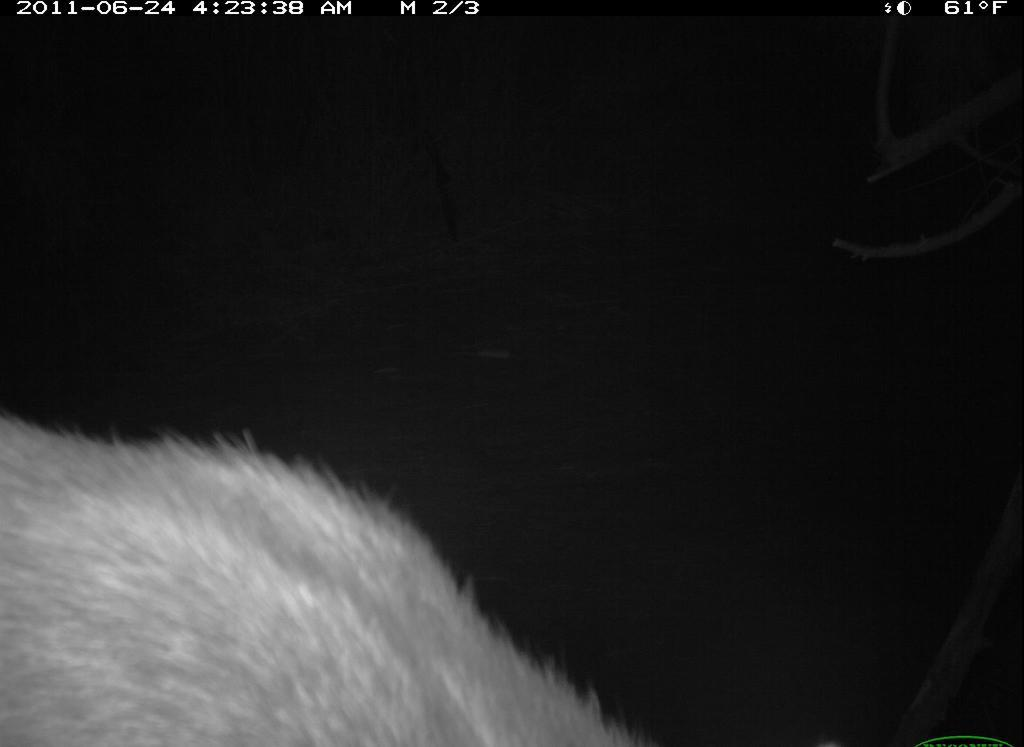raccoon: (2, 405, 679, 747)
